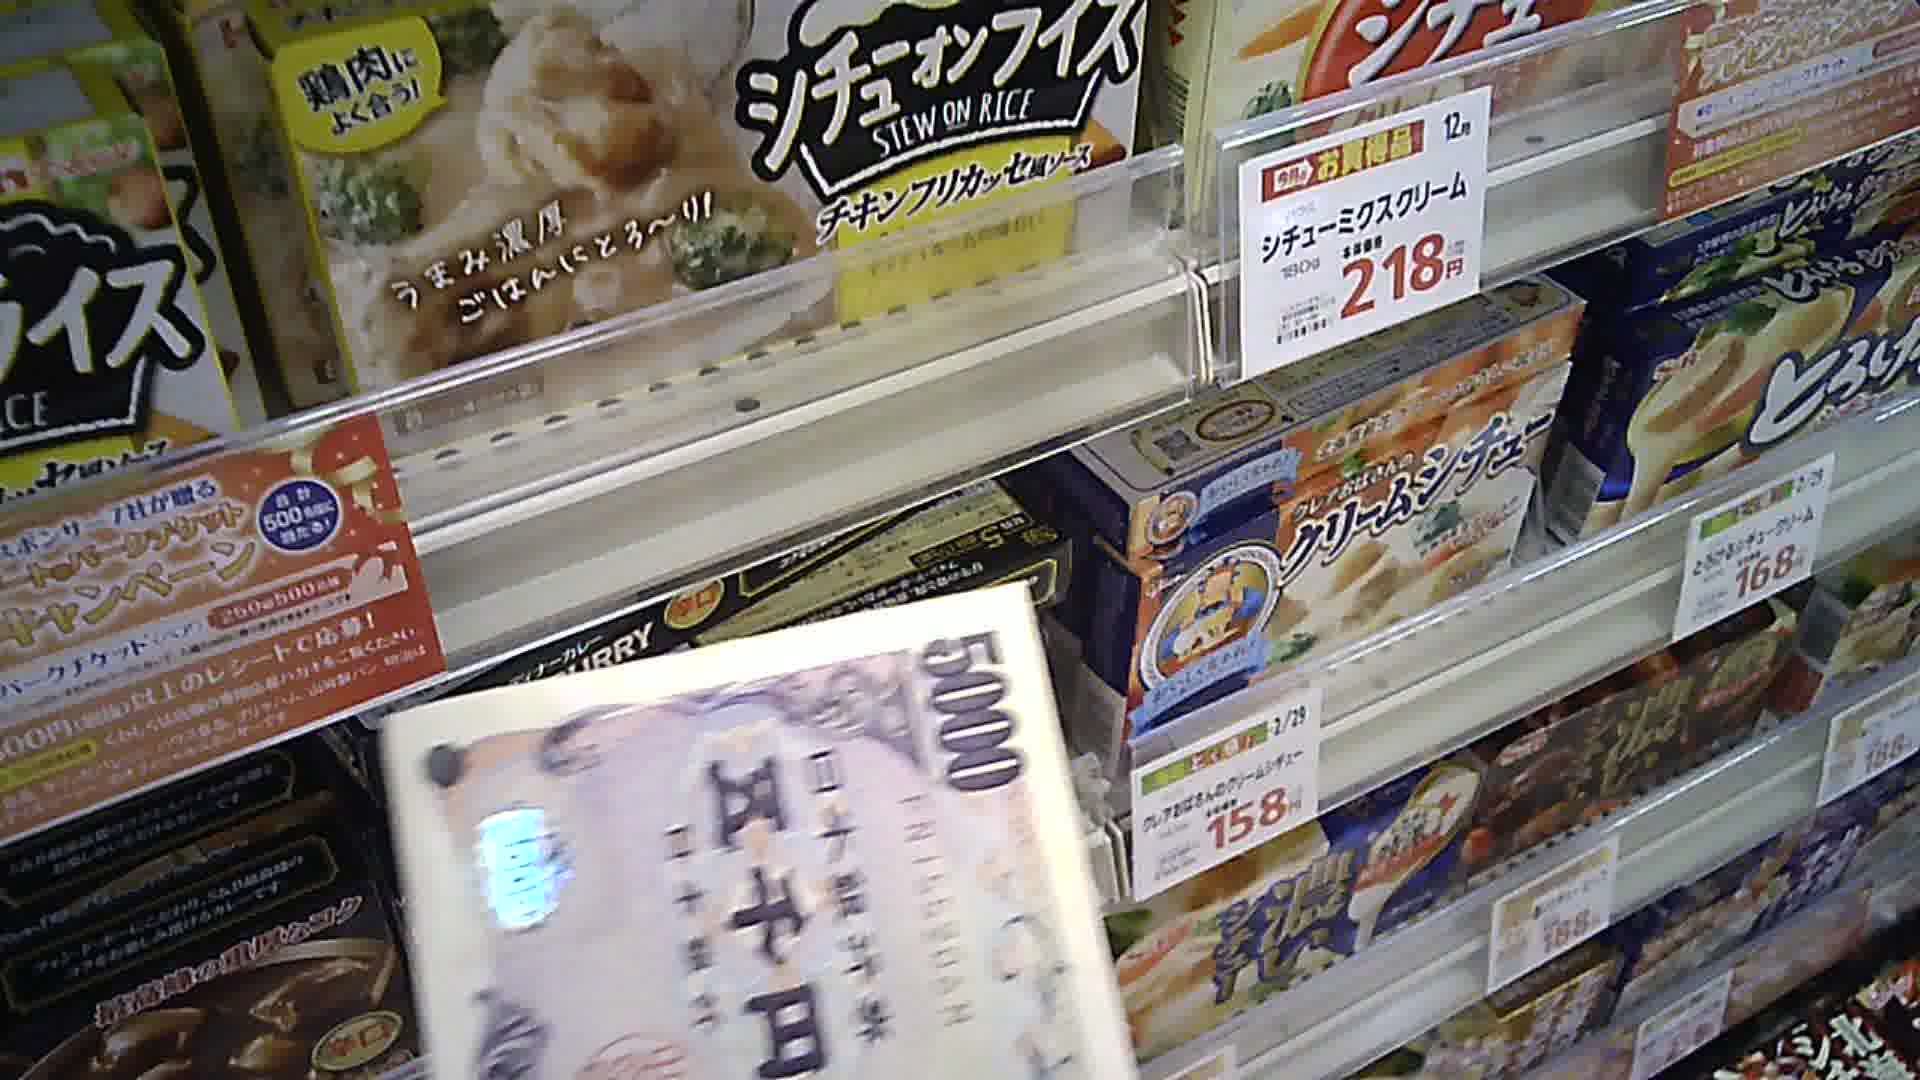5,000 Yen: (360, 570, 1120, 1077)
